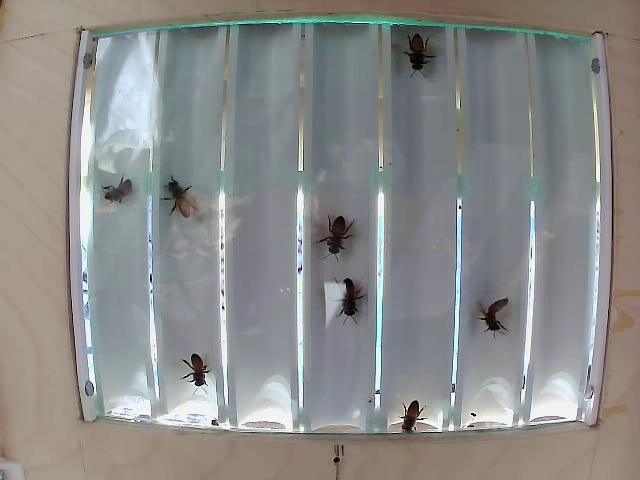bee: (329, 263, 373, 316), (167, 351, 212, 394), (317, 201, 352, 249), (167, 175, 200, 224), (111, 168, 138, 208), (475, 300, 501, 336)
